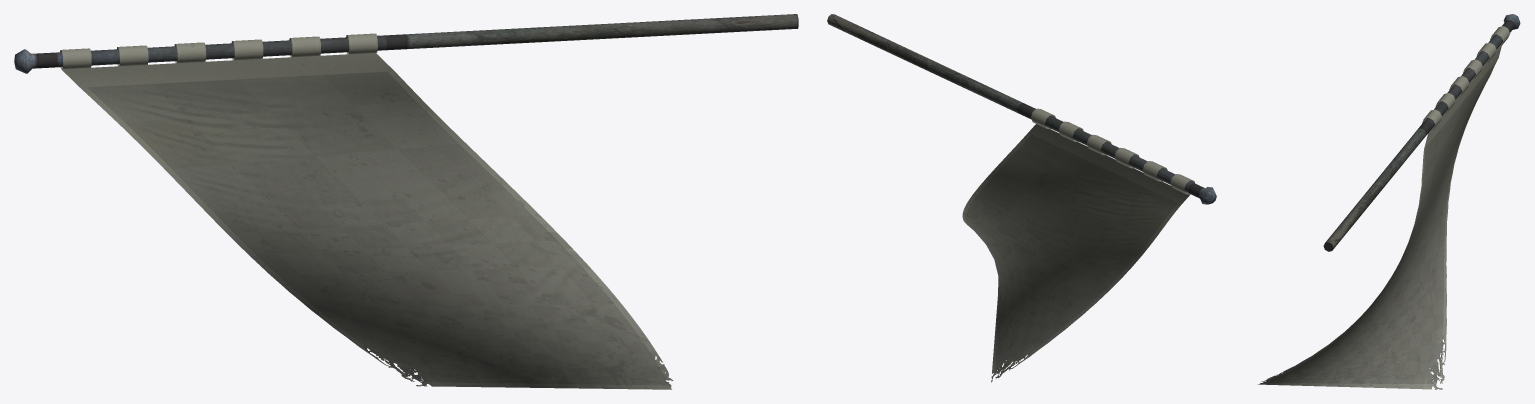
File: mp_flag_neutral_carry_LOD0.obj
3 renders of one model, left to right at view 1: azimuth 30°, elevation 25°; view 2: azimuth 150°, elevation 25°; view 3: azimuth 270°, elevation 25°, orthographic. The views are drawn at different scales.
Visible parts, largest first — view 1: mtl_flag_neutral, mtl_mp_flag_base; view 2: mtl_flag_neutral, mtl_mp_flag_base; view 3: mtl_flag_neutral, mtl_mp_flag_base.
Part boxes in pixels (bbox=[...]): mtl_flag_neutral: bbox=[60, 33, 673, 389]; mtl_mp_flag_base: bbox=[14, 14, 798, 73]; mtl_flag_neutral: bbox=[962, 108, 1195, 382]; mtl_mp_flag_base: bbox=[827, 14, 1216, 204]; mtl_flag_neutral: bbox=[1258, 26, 1510, 389]; mtl_mp_flag_base: bbox=[1323, 14, 1520, 251].
Bounding box in the file's own units: 131 × 74.03 × 69.83.
